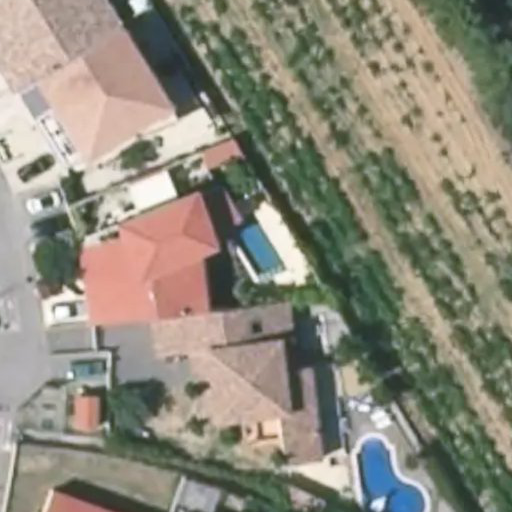pool: (223, 222, 285, 267)
